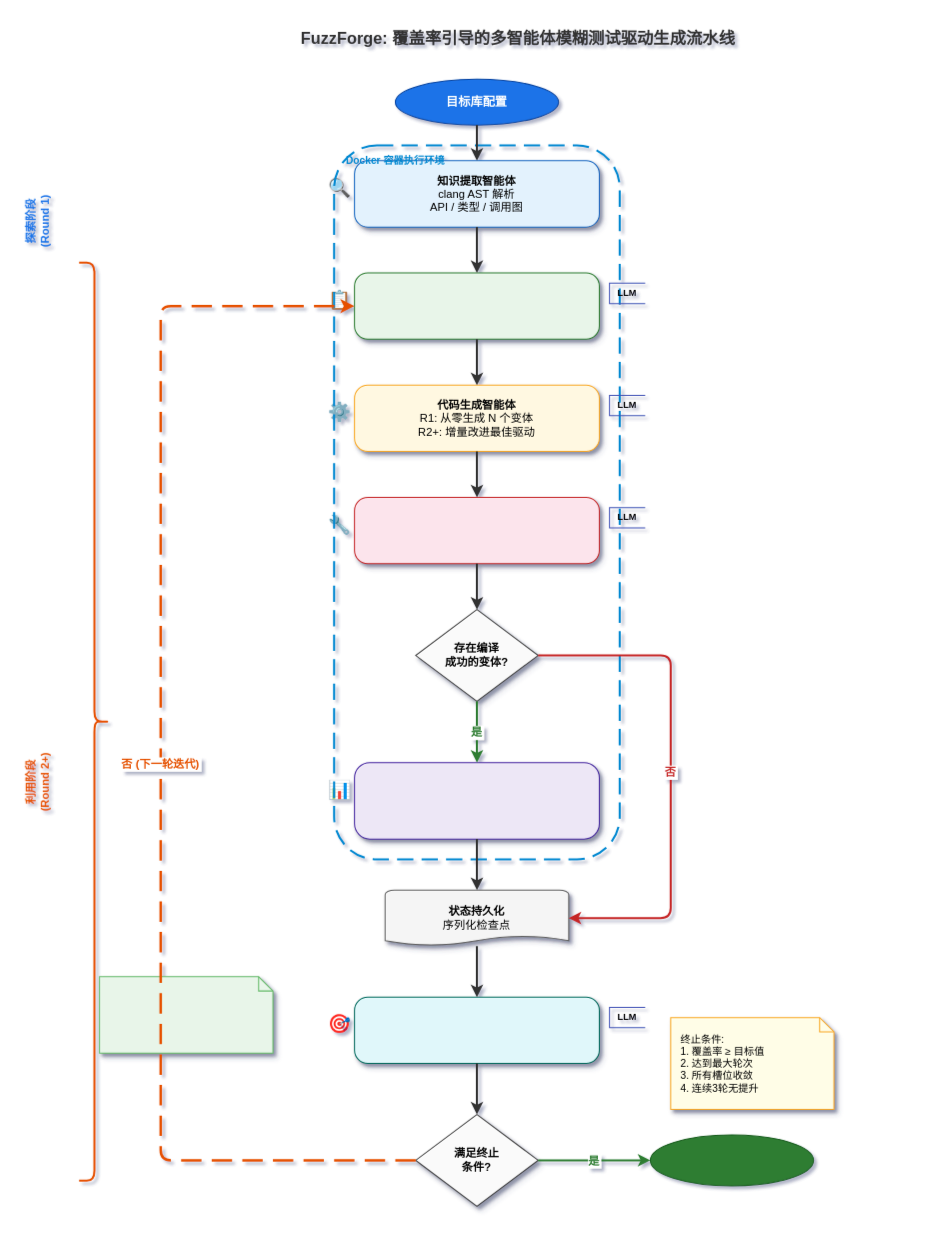
The diagram is 949 pixels wide and 1237 high, and some of its shapes have lost their labels. The shapes that lost their labels are listed below. From the top down, each one's centre as x and y in pixels, then its label:
pixel 477 307: 策略规划智能体 R1: 场景推理 + 槽位分配 R2+: 基于约束迭代优化
pixel 477 531: 编译修复智能体 错误诊断 + 自动修复 (≤3 次重试)
pixel 477 801: 覆盖率收集智能体 Docker 模糊测试 (fork 模式) 语料回放 + llvm-cov 收集 CFG 可达性分析
pixel 186 1016: 知识积累: • constraints_discovered • positive_patterns • negative_patterns
pixel 477 1031: 缺口诊断智能体 覆盖率缺口分析 生成结构化约束
pixel 731 1160: 输出最佳驱动 + 实验报告
